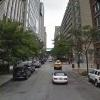Car: (49, 64, 68, 86)
